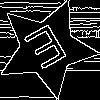E: (21, 23, 74, 79)
